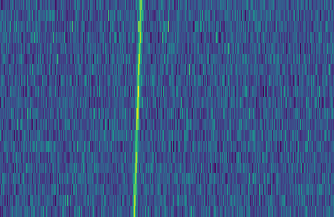signal: (129, 0, 145, 217)
